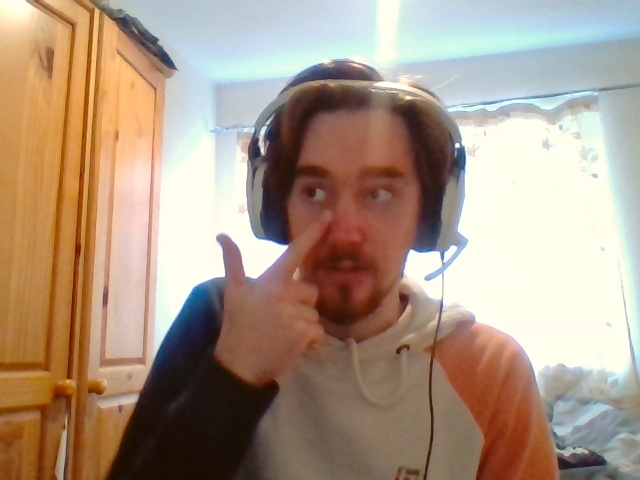luck: (217, 210, 333, 350)
